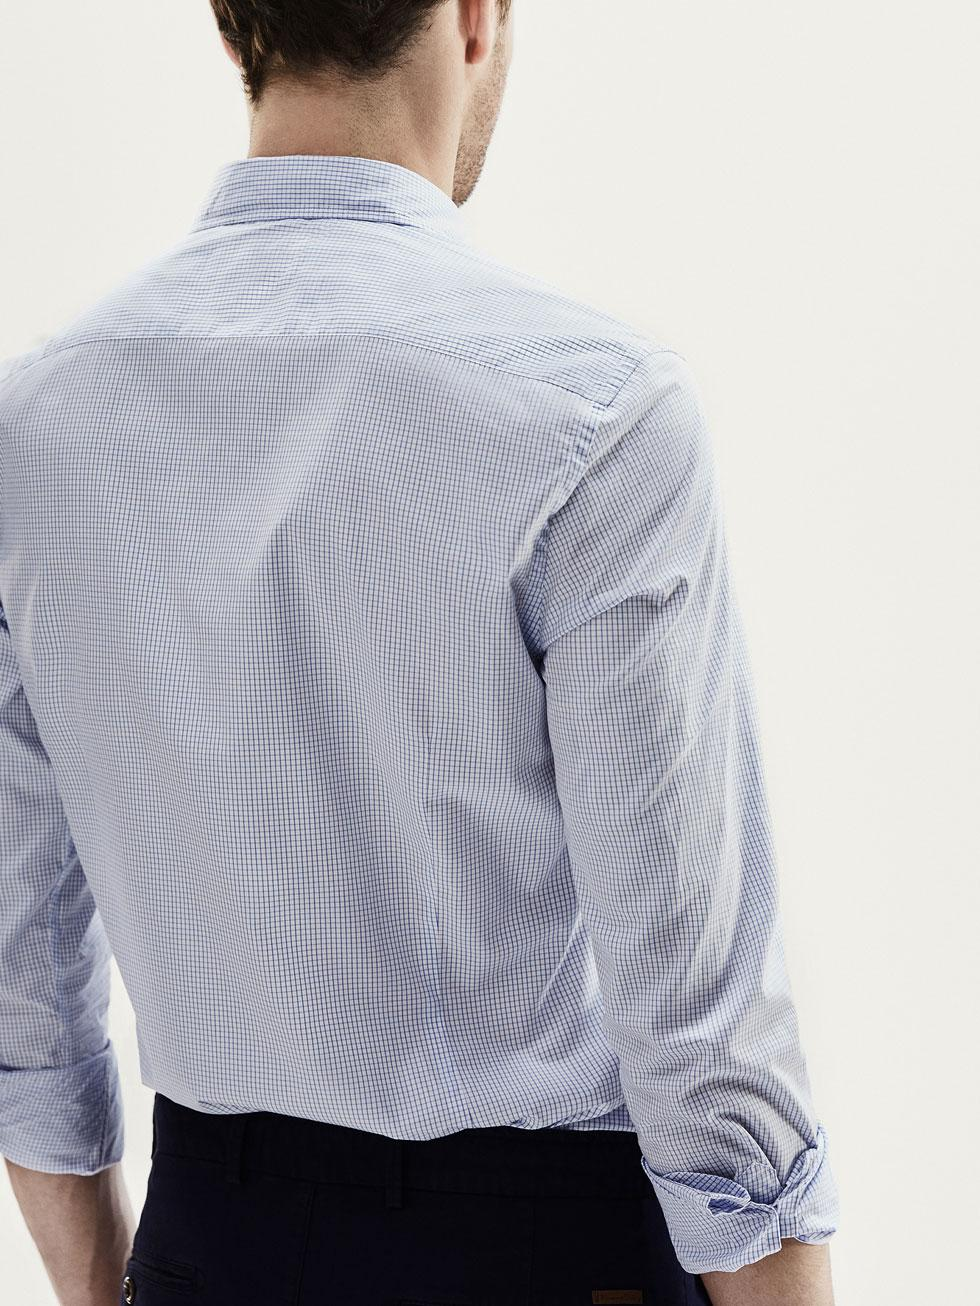teeshirt: (1, 151, 859, 1301)
